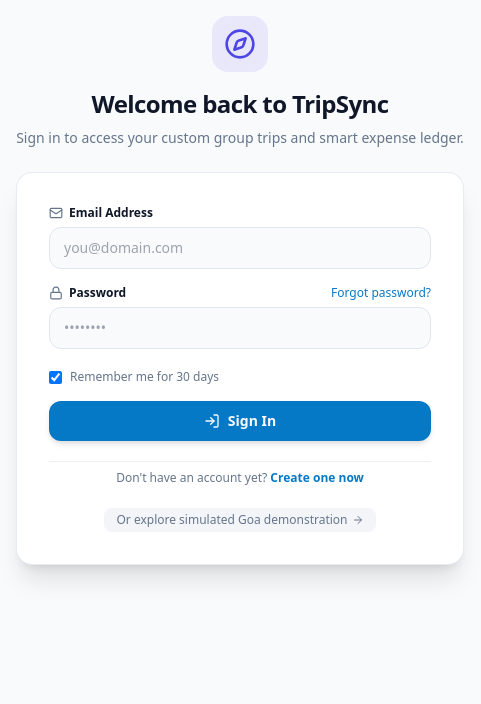
Test case: TripSync 2.1 — Authentication & User Onboarding Frontend Suite › Login Workflow & Session Persistence › displays clear connection error and does not allow fake offline login when backend is unreachable
The image size is (481, 704).
Type "traveler@tripsync.io" into the field labelled "Email Address" at (240,248), box [49,227,431,269]
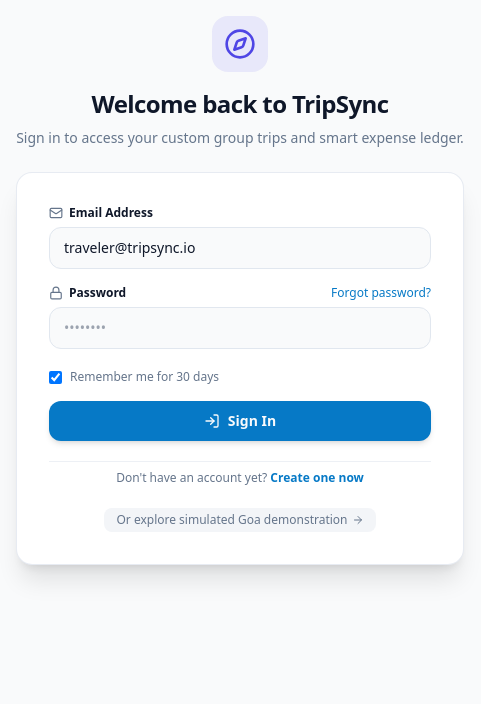
Type "SecurePass123!" into the password field labelled "Password" at (240,328), box [49,307,431,349]
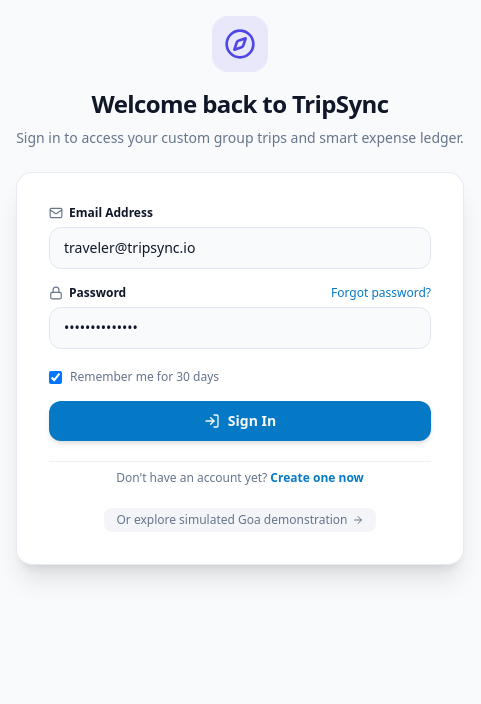
Submit the form labelled "Email Address", box [49,205,431,441]
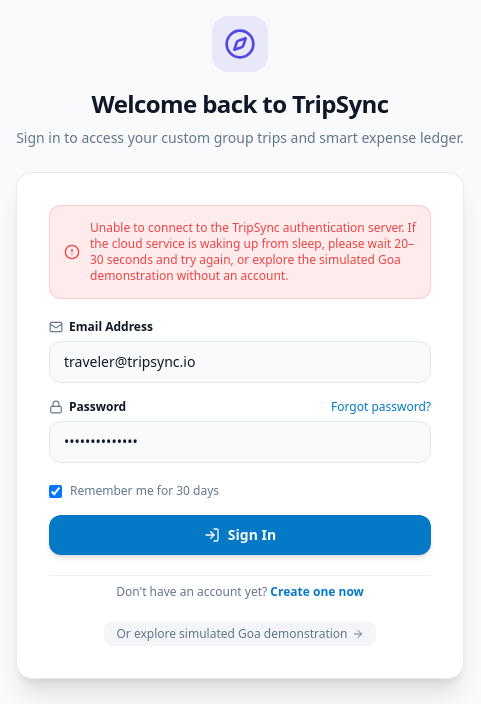
Expected: the text "Unable to connect to the TripSync authentication server" is shown, [90,219,416,284]
